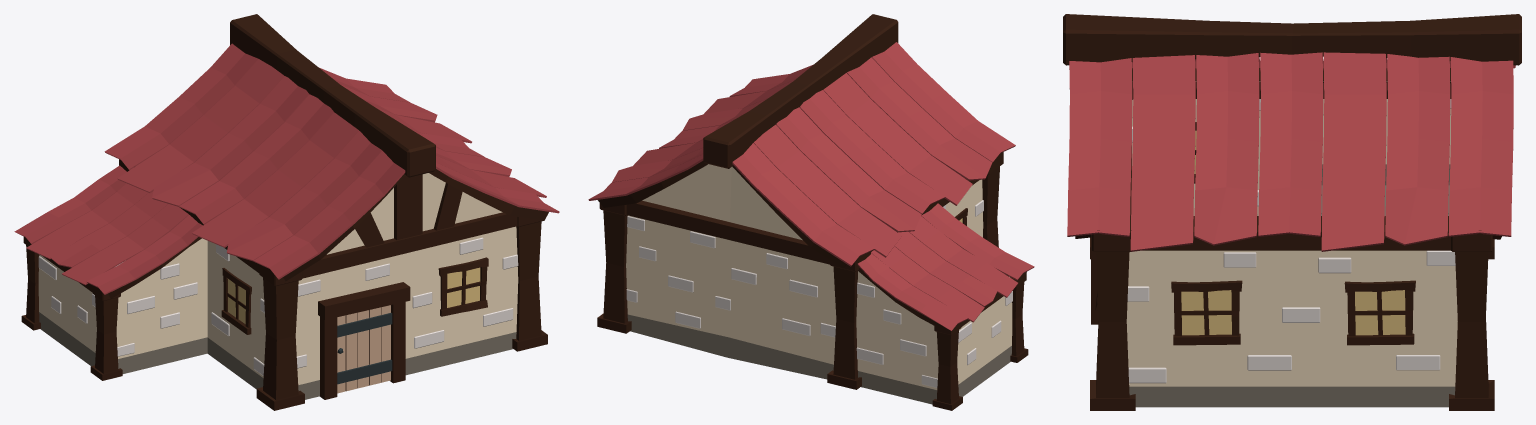
The model's file is house1.fbx.
3 renders of one model, left to right at view 1: azimuth 30°, elevation 25°; view 2: azimuth 150°, elevation 25°; view 3: azimuth 270°, elevation 25°, orthographic. The views are drawn at different scales.
Visible parts, largest first — view 1: Buildings.003; view 2: Buildings.003; view 3: Buildings.003.
Part boxes in pixels (x1=…): Buildings.003: x1=14, y1=14, x2=559, y2=410; Buildings.003: x1=588, y1=14, x2=1034, y2=410; Buildings.003: x1=1063, y1=14, x2=1521, y2=410.
Bounding box in the file's own units: 11.84 × 6.92 × 9.3.
